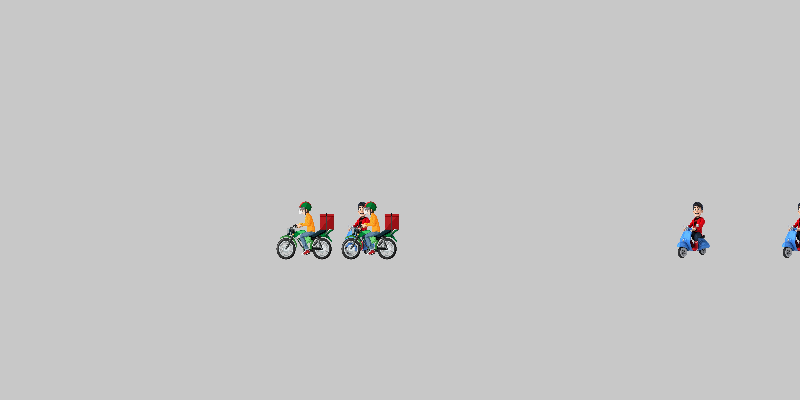helmet: (275, 200, 335, 260), (340, 200, 400, 260)
no_helmet: (330, 200, 390, 260), (665, 200, 725, 260), (770, 200, 800, 260)
